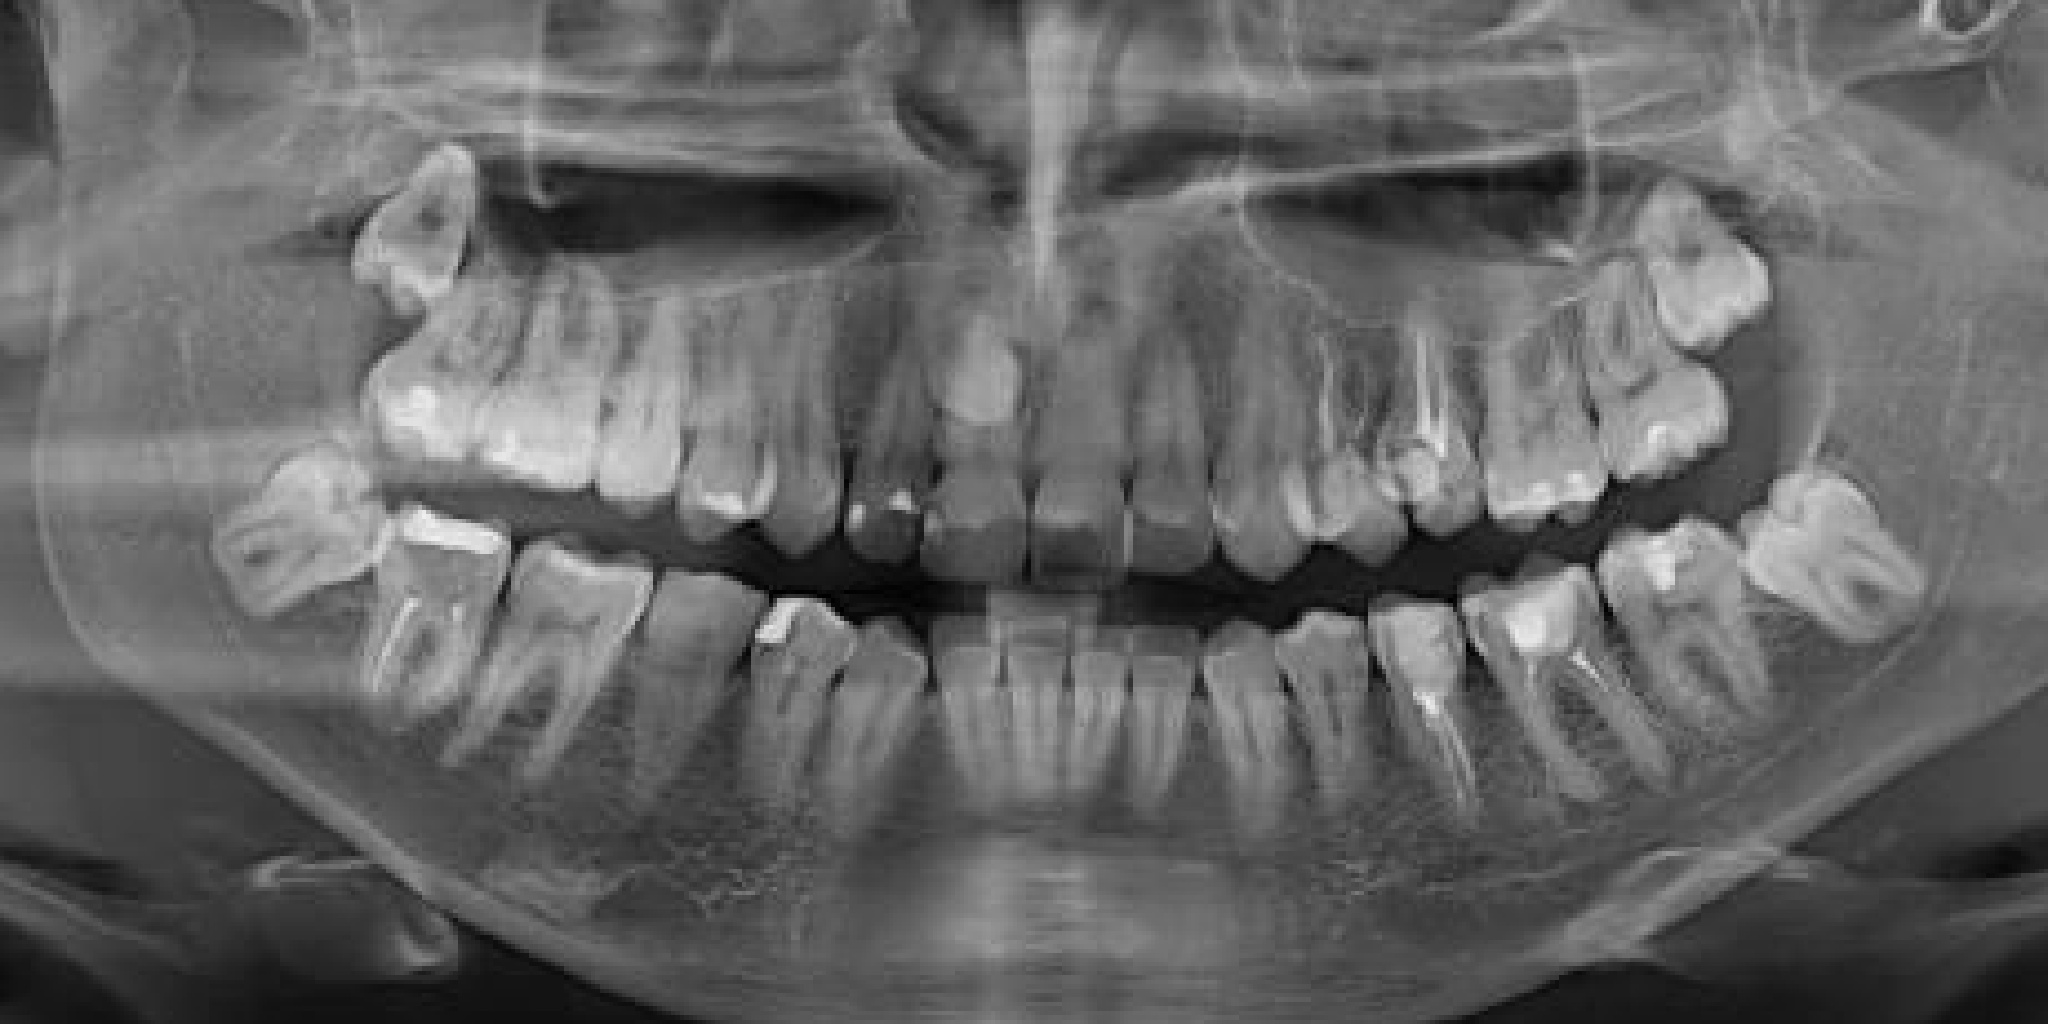Tooth: (1379, 483, 1795, 914), (323, 462, 726, 900), (118, 346, 448, 792), (509, 478, 835, 922), (1539, 423, 1852, 866), (1536, 10, 1839, 451), (1492, 120, 1783, 556), (414, 131, 705, 567), (280, 0, 577, 414), (1388, 179, 1668, 613), (285, 424, 564, 858), (324, 107, 590, 536), (1200, 199, 1467, 626), (854, 206, 1114, 633), (1213, 545, 1467, 969), (1300, 195, 1541, 614), (602, 184, 842, 603), (967, 218, 1202, 633)
